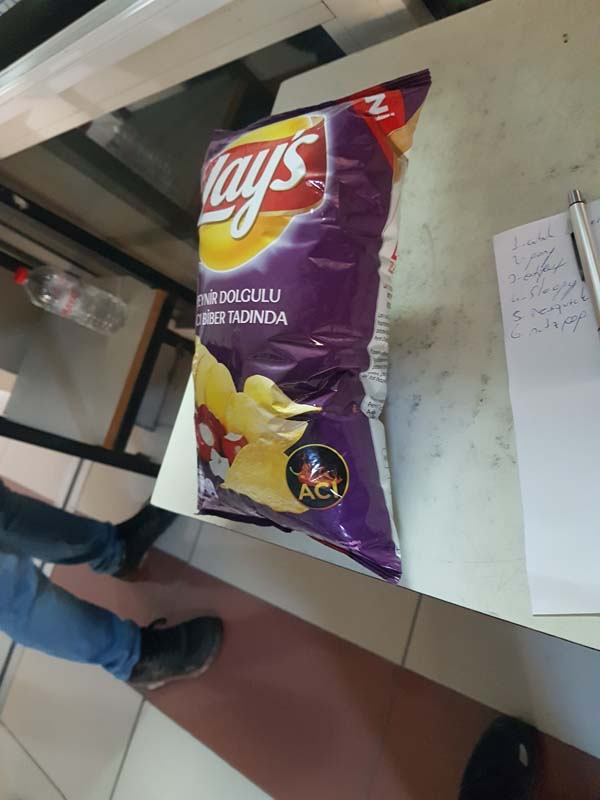layspeynirsoslu: (190, 67, 437, 591)
